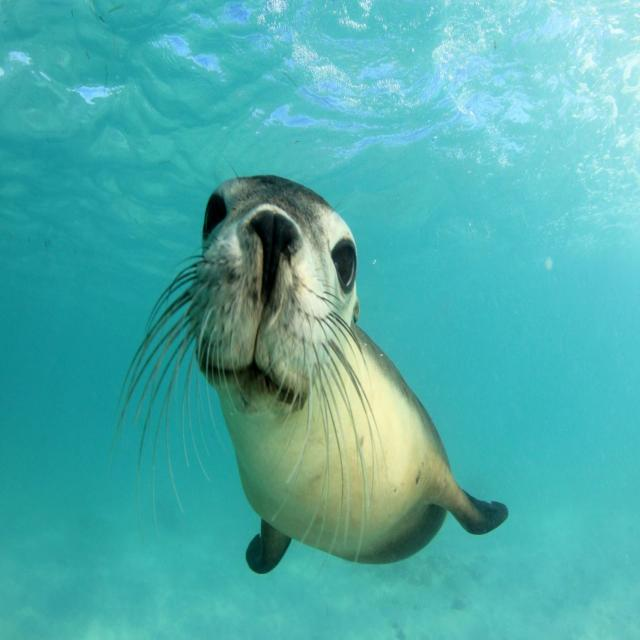WaterDog: (116, 167, 515, 597)
